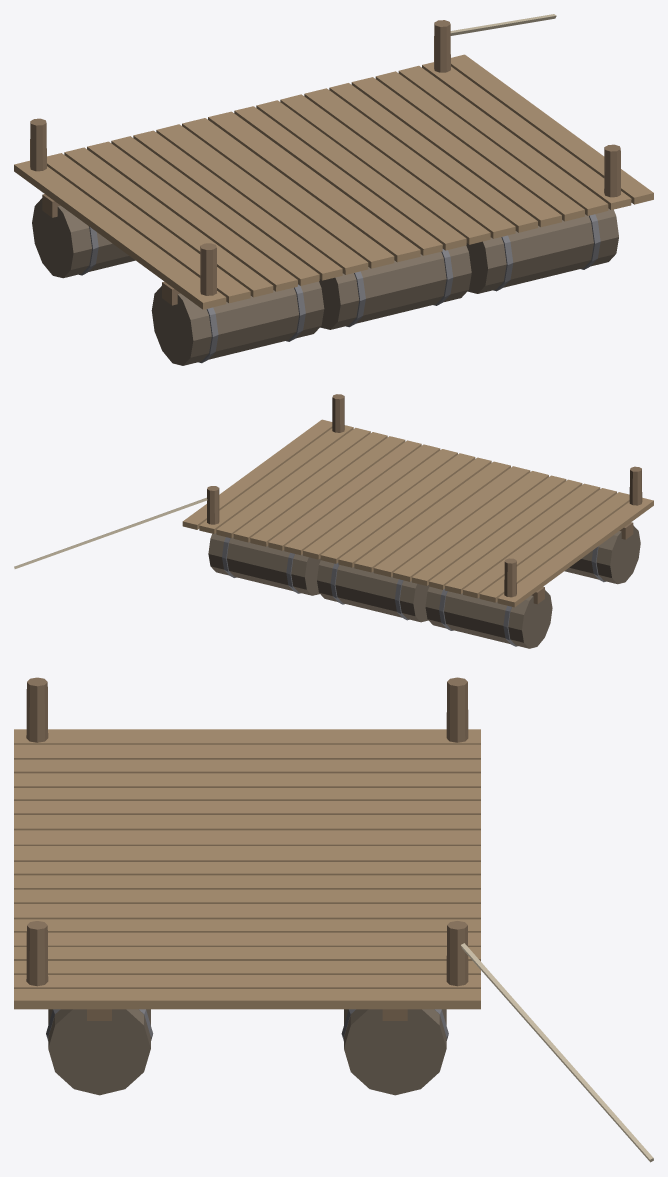
3 views of the same model, one above another, from view 1: azimuth 30°, elevation 25°; view 2: azimuth 150°, elevation 25°; view 3: azimuth 270°, elevation 25° (orthographic). The views are drawn at different scales.
Parts seen in each view (by area): view 1: H06_桥板, H06_浮桶, H06_系缆桩, H06_浮桶箍, H06_缆绳, H06_纵梁; view 2: H06_桥板, H06_浮桶, H06_系缆桩, H06_浮桶箍, H06_缆绳; view 3: H06_桥板, H06_浮桶, H06_系缆桩, H06_缆绳.
Part boxes in pixels (bbox=[...]): H06_桥板: bbox=[14, 54, 653, 309]; H06_浮桶: bbox=[32, 198, 618, 365]; H06_系缆桩: bbox=[30, 20, 620, 295]; H06_浮桶箍: bbox=[79, 214, 600, 363]; H06_缆绳: bbox=[450, 14, 556, 35]; H06_纵梁: bbox=[42, 194, 180, 305]; H06_桥板: bbox=[182, 419, 653, 607]; H06_浮桶: bbox=[208, 525, 640, 648]; H06_系缆桩: bbox=[207, 394, 642, 597]; H06_浮桶箍: bbox=[222, 537, 605, 646]; H06_缆绳: bbox=[14, 497, 207, 568]; H06_桥板: bbox=[14, 729, 480, 1009]; H06_浮桶: bbox=[48, 1009, 446, 1095]; H06_系缆桩: bbox=[26, 677, 468, 986]; H06_缆绳: bbox=[461, 943, 653, 1162].
Size of the model in its own units: 561 by 118 by 411.
